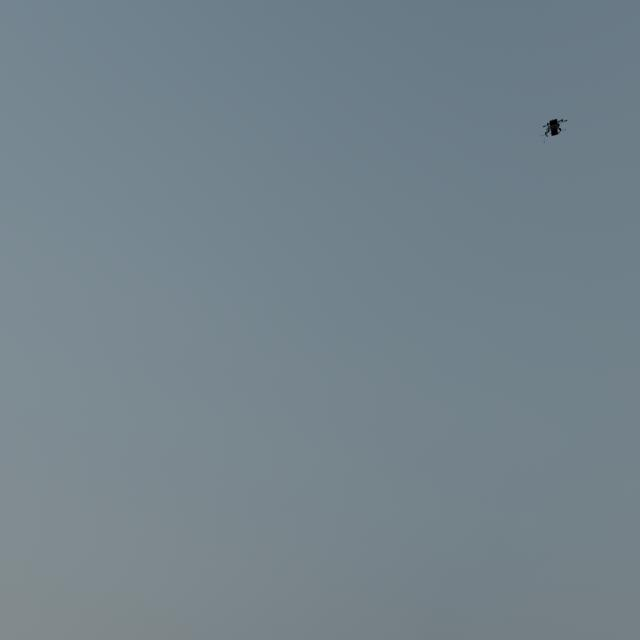drone: (540, 118, 568, 143)
